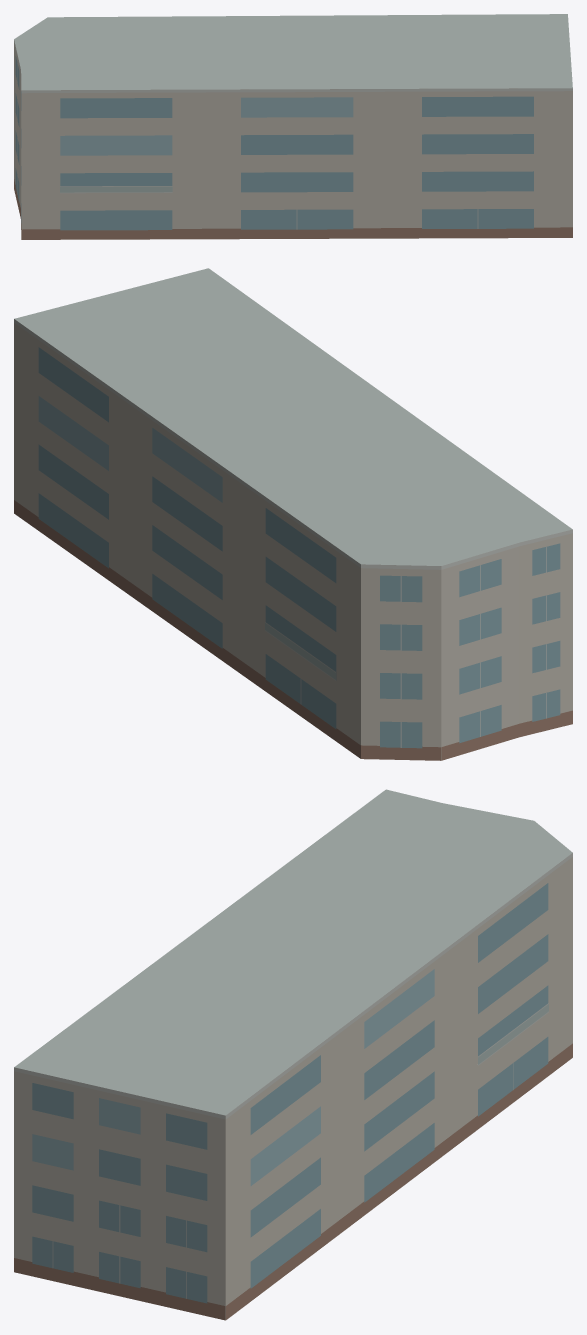
Rendered from survey-upis-32869815.glb.
3 renders of one model, top to bottom at view 1: azimuth 30°, elevation 25°; view 2: azimuth 150°, elevation 25°; view 3: azimuth 270°, elevation 25°, orthographic. The views are drawn at different scales.
Visible parts, largest first — view 1: survey-upis-32869815.tmp; view 2: survey-upis-32869815.tmp; view 3: survey-upis-32869815.tmp.
Boxes of the visible parts, x1,y1,x2,y2 form: survey-upis-32869815.tmp: (14, 14, 572, 239); survey-upis-32869815.tmp: (14, 268, 572, 760); survey-upis-32869815.tmp: (14, 789, 572, 1320).
Size of the model in its own units: 43.19 by 12.65 by 31.28.
